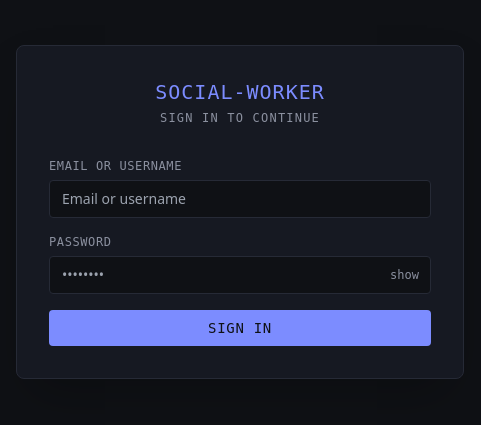
LoginPage › displays error message when login fails
The image size is (481, 425).
Type "alice" into the field with placeholder "Email or username".
click(240, 199); type("alice")  # box [49,180,431,218]
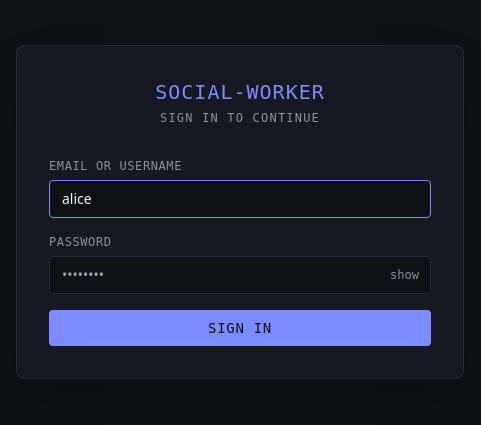
Type "wrong" into the password field with placeholder "••••••••".
click(240, 275); type("wrong")  # box [49,256,431,294]
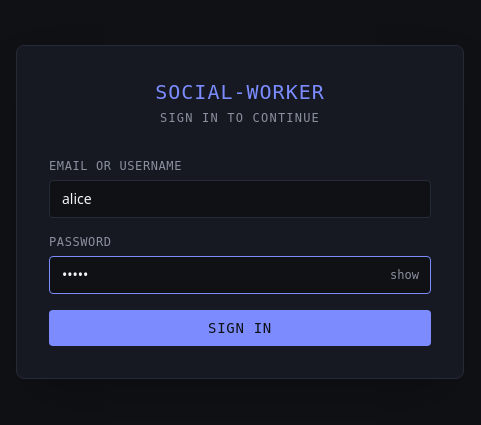
Click the button "sign in".
click(240, 328)  # box [49,310,431,346]
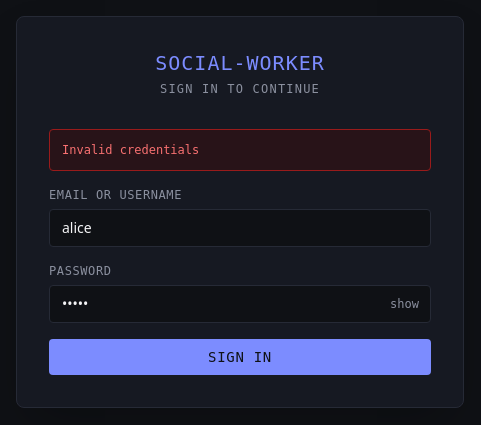
Now the text "Invalid credentials" is shown, box [49,129,431,171]
